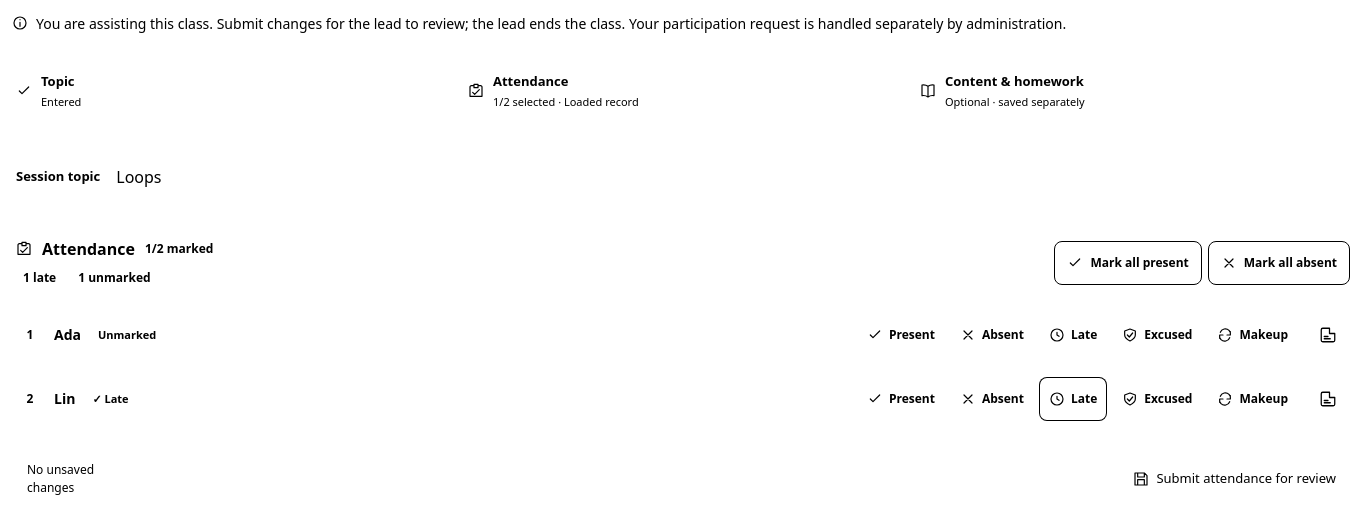
Test: session attendance workspace › lets an assistant propose attendance but never offers to end the class
This screenshot has width=1366, height=517.
What coordinates should you click on to do the following:
click the button with aria-label "Ada: Absent"
I would click on:
 (992, 335)
Its box is [950,313,1034,357].
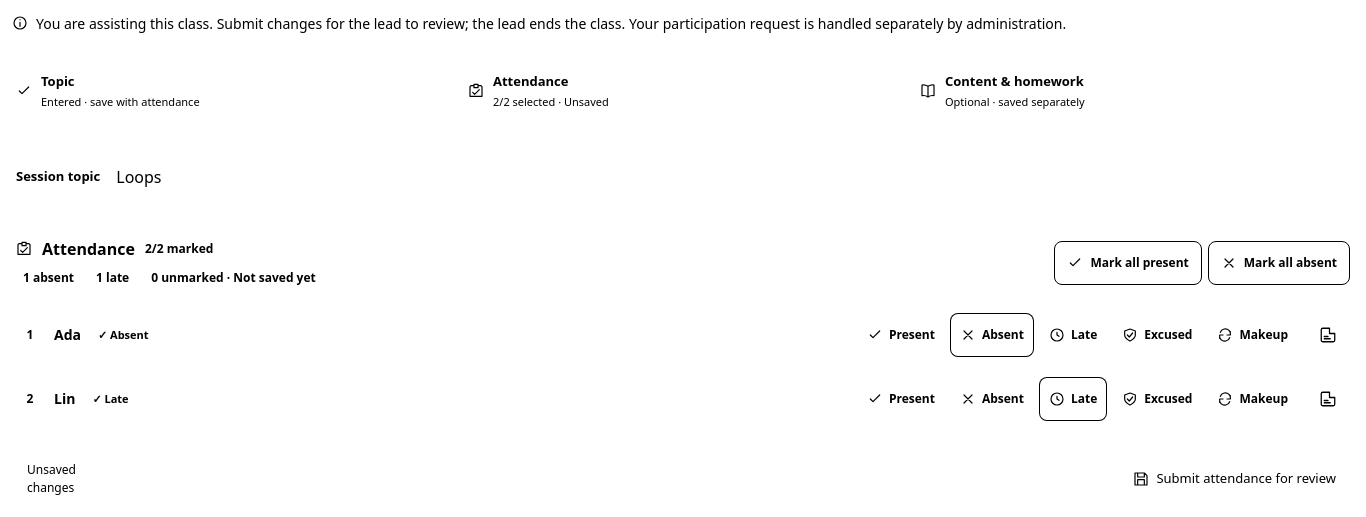
What coordinates should you click on to do the following:
click the button "Submit attendance for review"
I would click on:
 (1235, 479)
Its box is [1117,457,1352,501].
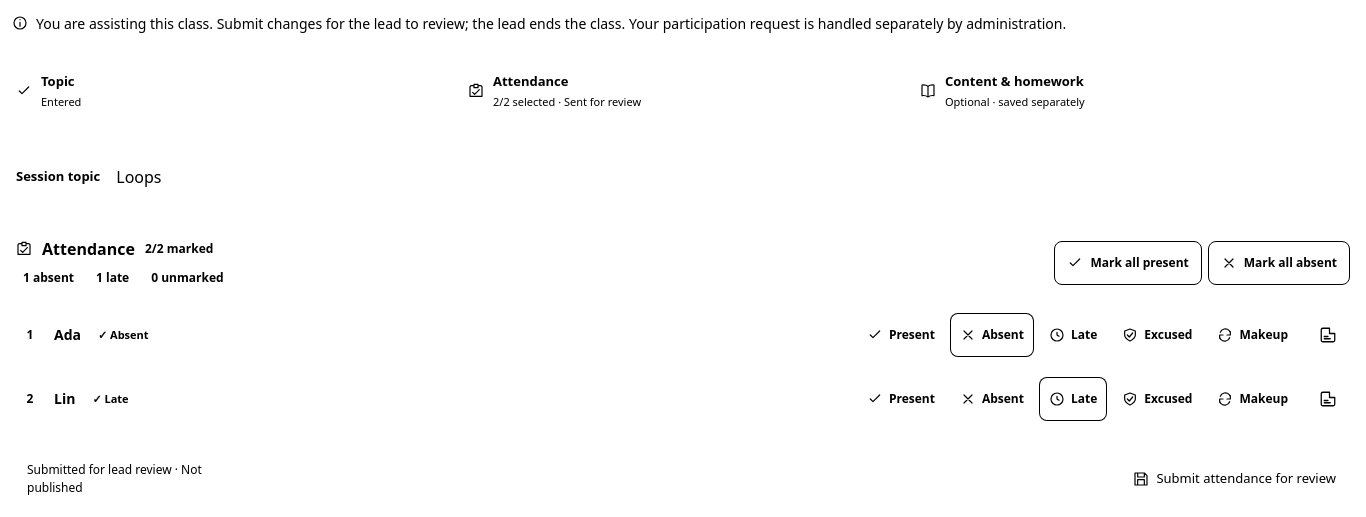
Expected: the message "Submitted for lead review · Not published" is shown, [27,461,202,496]
